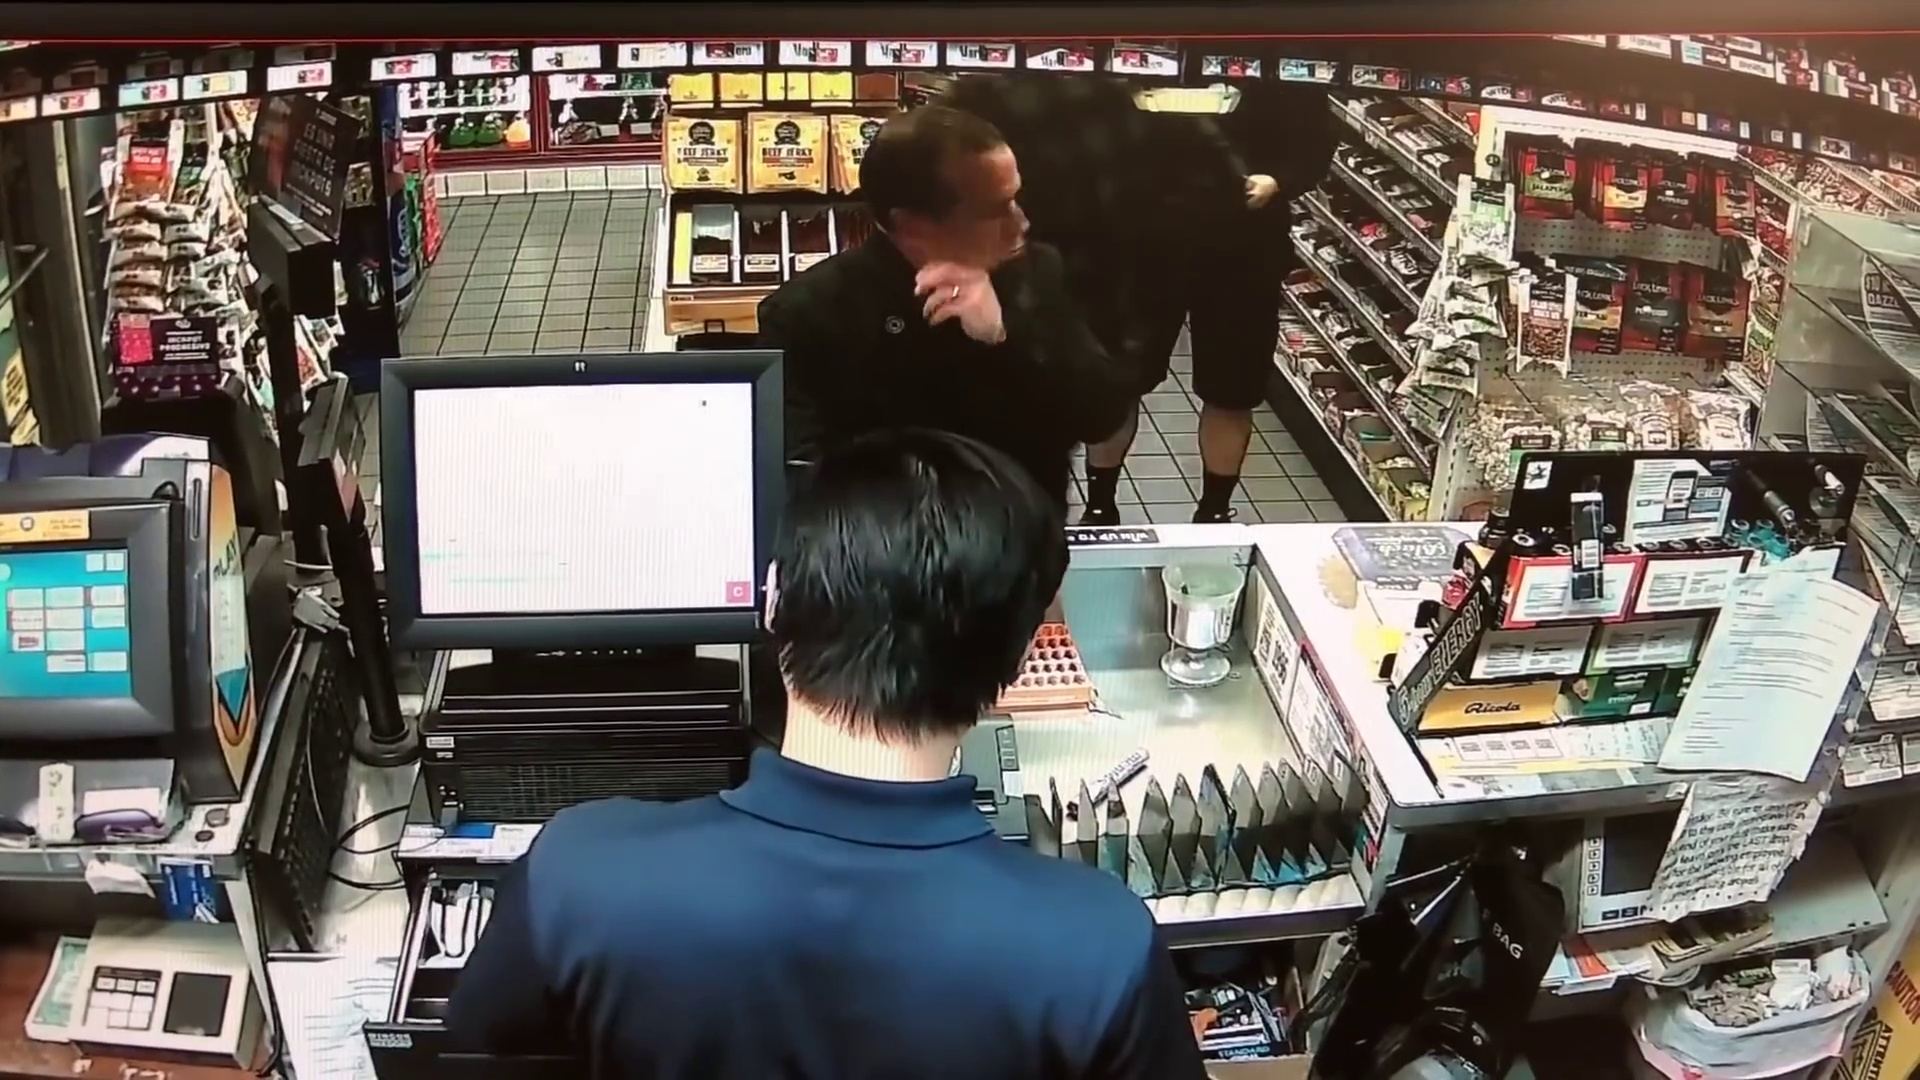face: (924, 153, 1037, 270)
